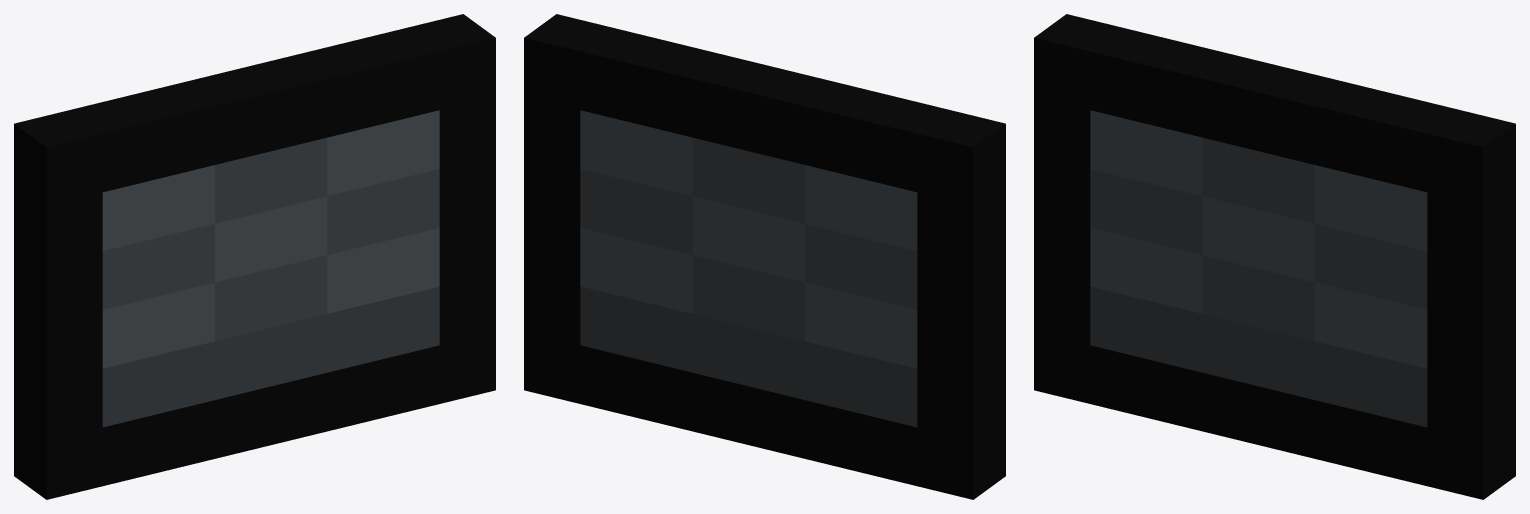
File: Gray Carpet.glb
3 views of the same model, side by side, from view 1: azimuth 30°, elevation 25°; view 2: azimuth 150°, elevation 25°; view 3: azimuth 330°, elevation 25° (orthographic).
Parts seen in each view (by area): view 1: generated(Clone); view 2: generated(Clone); view 3: generated(Clone).
Part boxes in pixels (x1=…): generated(Clone): x1=14, y1=14, x2=495, y2=499; generated(Clone): x1=524, y1=14, x2=1005, y2=499; generated(Clone): x1=1034, y1=14, x2=1515, y2=499.
Bounding box in the file's own units: 8 × 6 × 1.
1 material, 1 textured.
